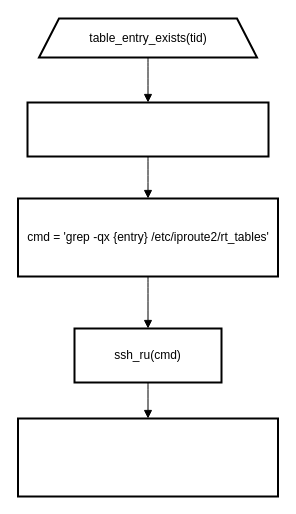
Image size: 296x514. Some labels were removed from this diagram. The centre of each missing label's shape, as x and y in pixels:
entry = f'{tid} tunnel{tid}': [147,129]
Retornar proc.returncode == 0: [147,457]
